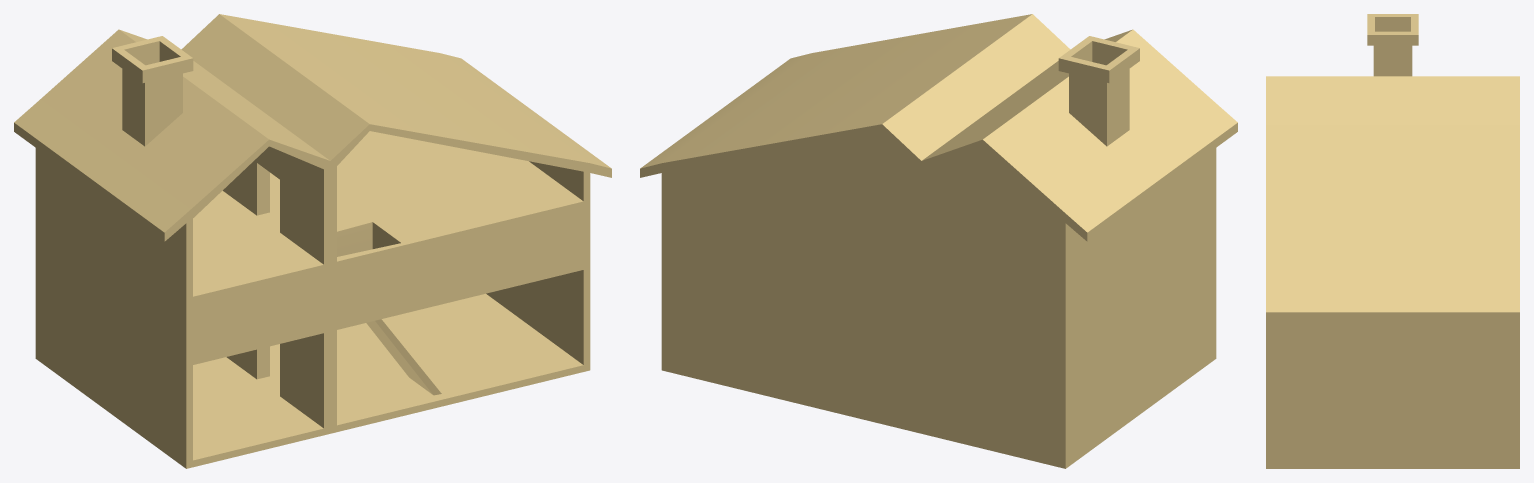
The model's file is Doll house.FBX.
3 views of the same model, side by side, from view 1: azimuth 30°, elevation 25°; view 2: azimuth 150°, elevation 25°; view 3: azimuth 270°, elevation 25° (orthographic). The views are drawn at different scales.
Visible parts, largest first — view 1: Box001; view 2: Box001; view 3: Box001.
Boxes of the visible parts, x1=… form: Box001: x1=14, y1=14, x2=611, y2=468; Box001: x1=640, y1=14, x2=1237, y2=468; Box001: x1=1266, y1=14, x2=1519, y2=468.
Size of the model in its own units: 67.57 by 50.59 by 39.37.
1 material, 1 textured.
